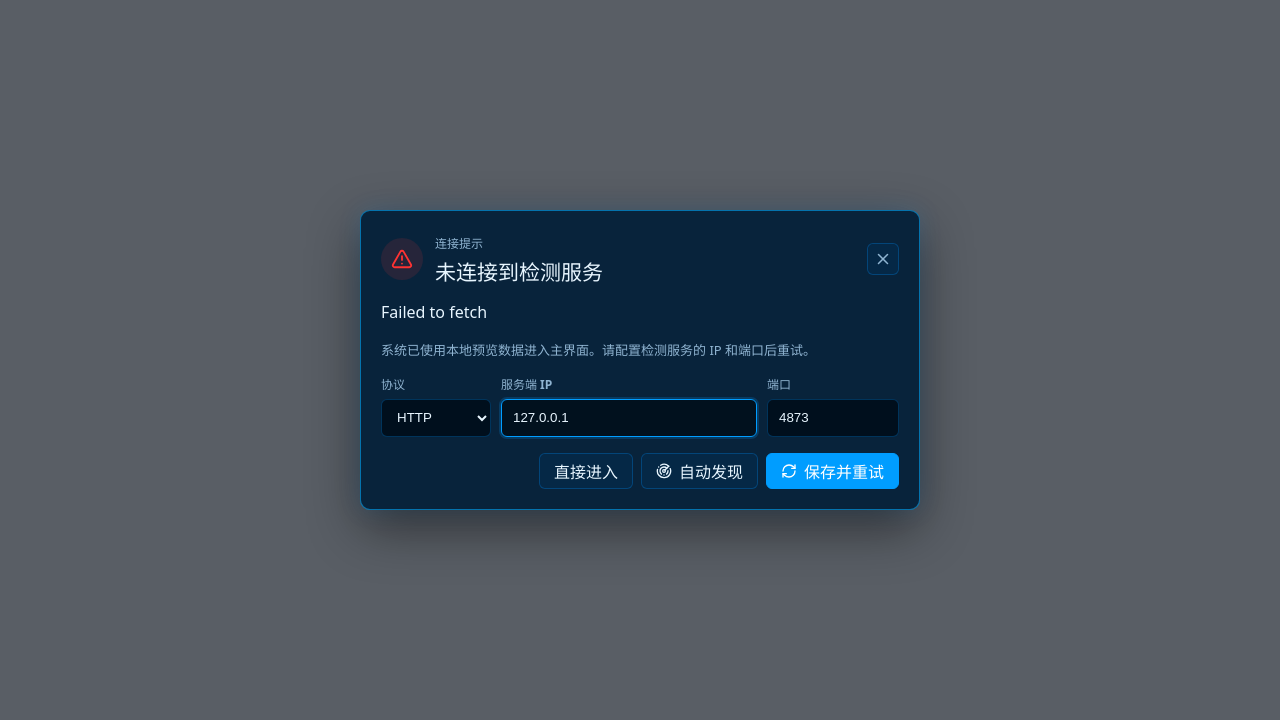
Test case: ConnectionRecoveryDialog › fills the preferred address returned by automatic discovery
The width and height of the screenshot is (1280, 720).
Click the button "自动发现" at (700, 471), box [641,453,758,489]
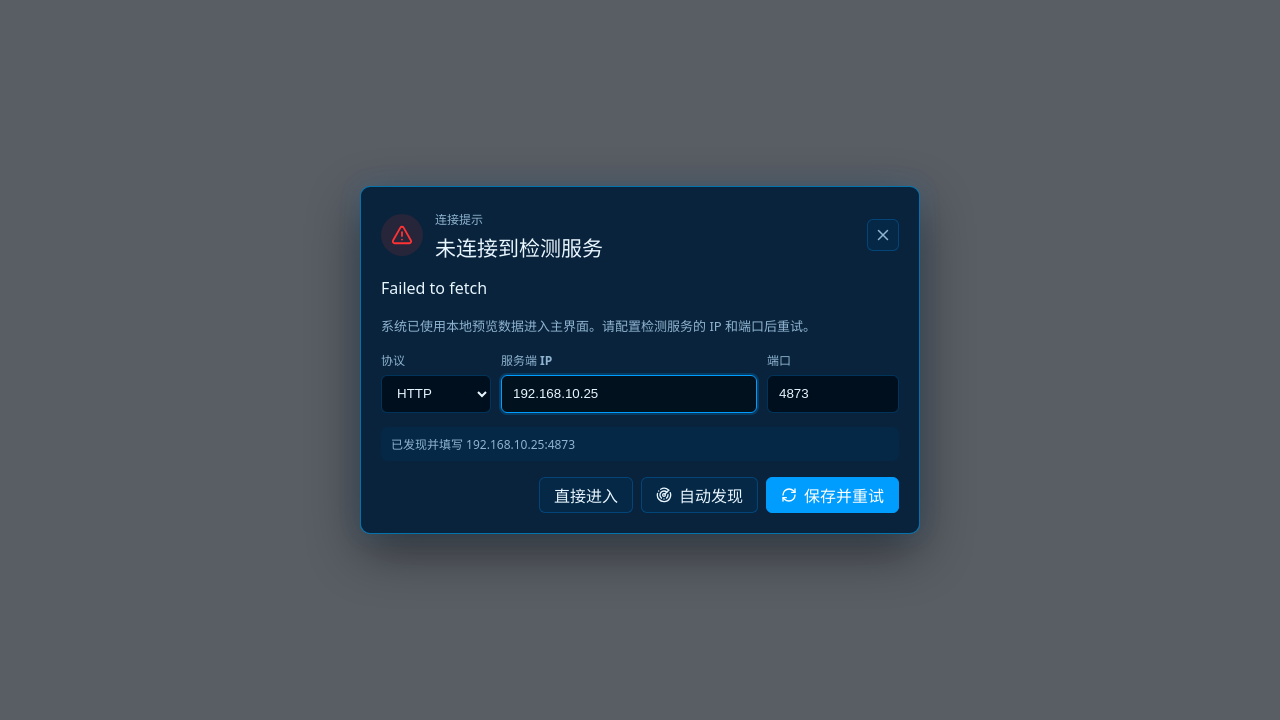
Expected: the field labelled "服务端 IP" holds "192.168.10.25", [501,375,757,413]
Expected: the text "已发现并填写 192.168.10.25:4873" is shown, [381,427,899,461]
